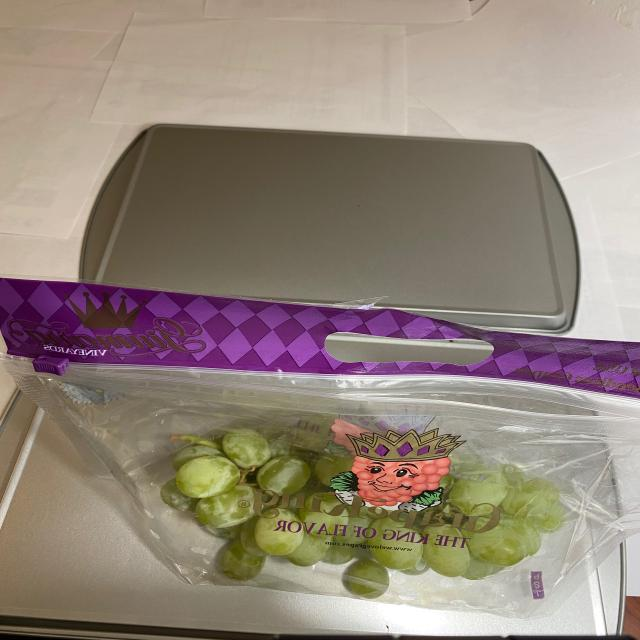grapes: (140, 419, 591, 596)
